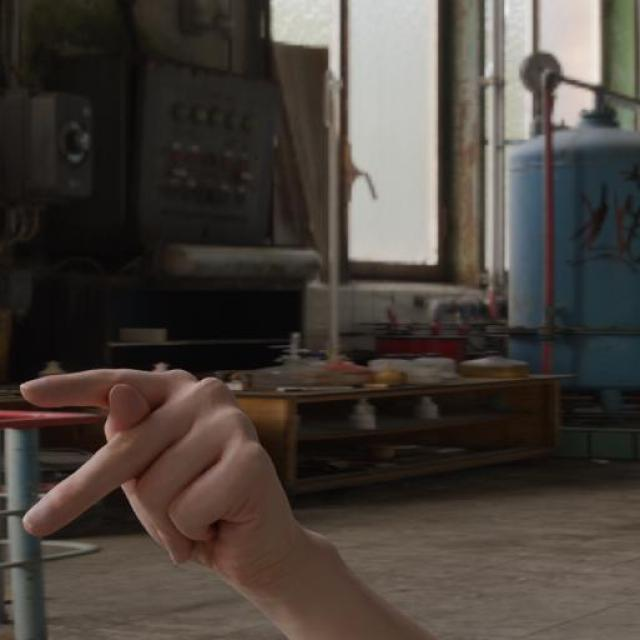P: (19, 366, 288, 610)
